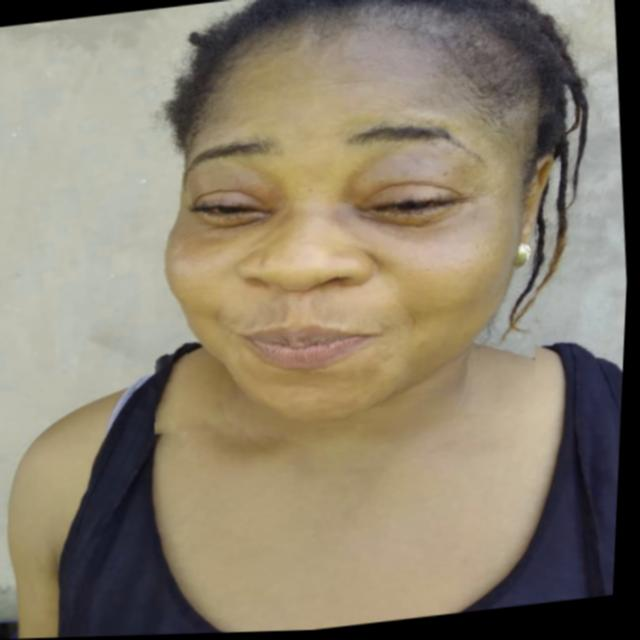happy: (125, 0, 569, 448)
